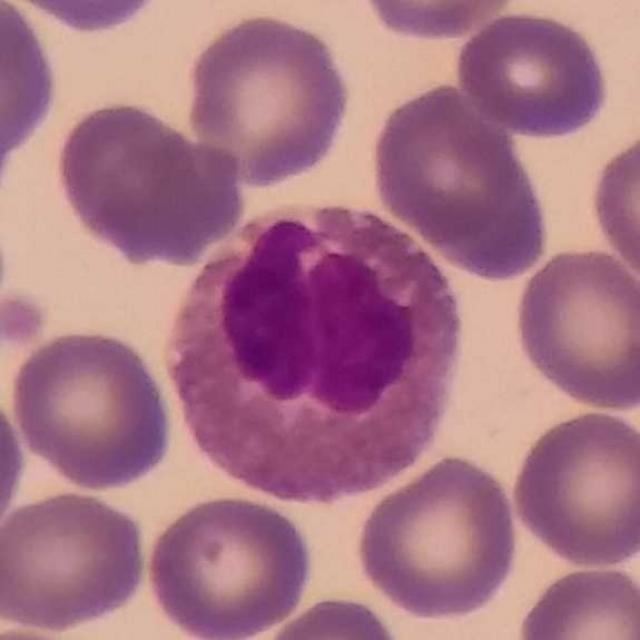Eosinophil: (173, 204, 477, 503)
Platelets: (0, 285, 49, 348)
RBC: (364, 77, 553, 277), (49, 96, 245, 266), (181, 9, 355, 190), (352, 451, 523, 623), (7, 325, 177, 493), (142, 491, 315, 640), (0, 486, 151, 633), (451, 5, 613, 142), (509, 244, 639, 414), (507, 406, 640, 570), (0, 1, 62, 173), (513, 560, 640, 640), (585, 122, 640, 294), (352, 0, 527, 43), (254, 592, 408, 640), (1, 0, 170, 35), (0, 384, 28, 550)
